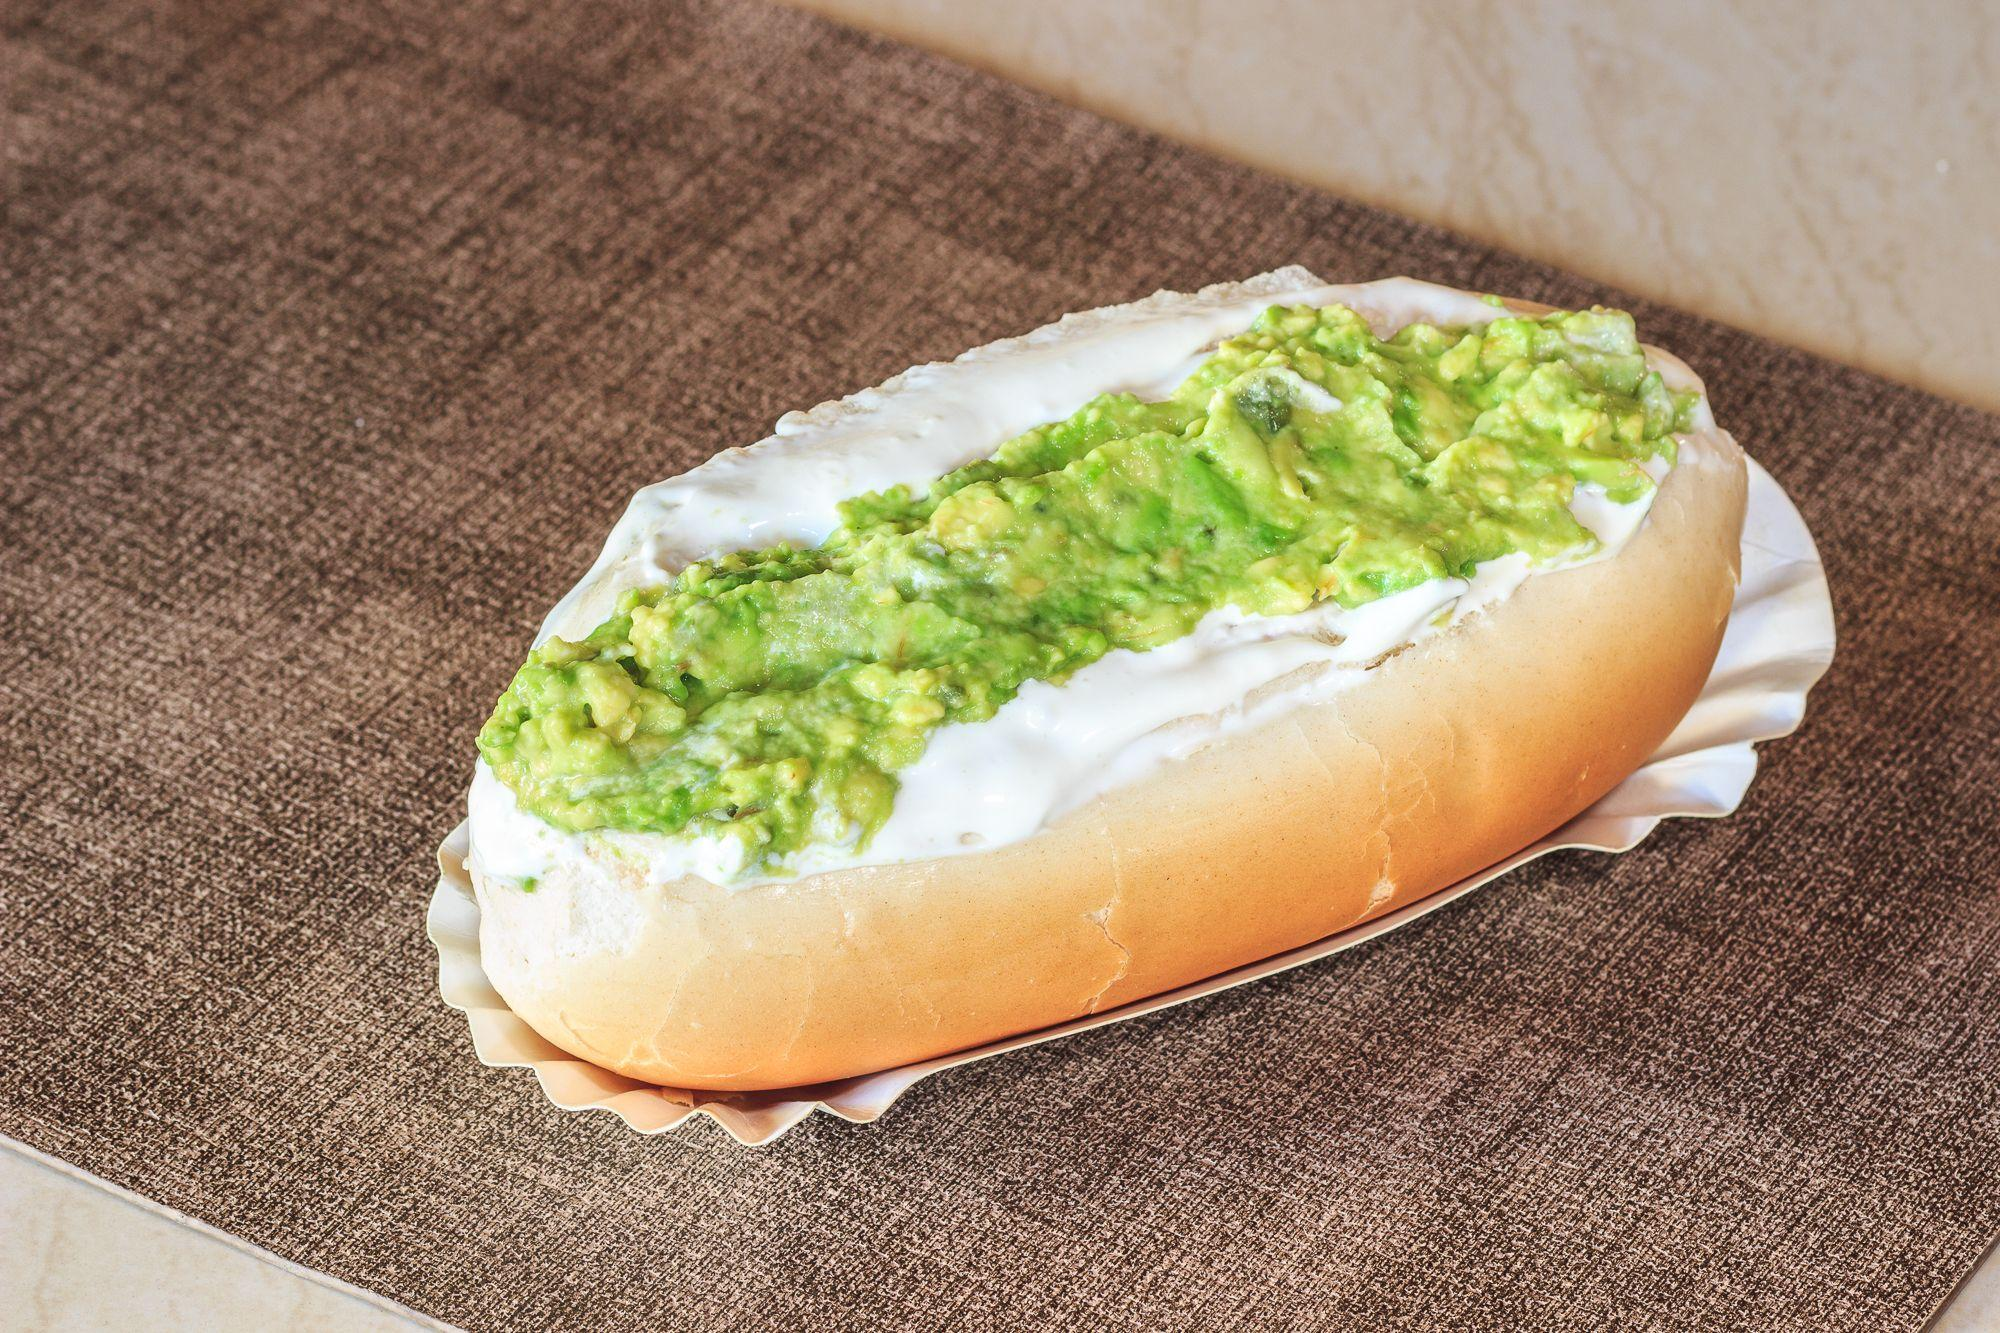Completos: (406, 256, 1766, 1038)
